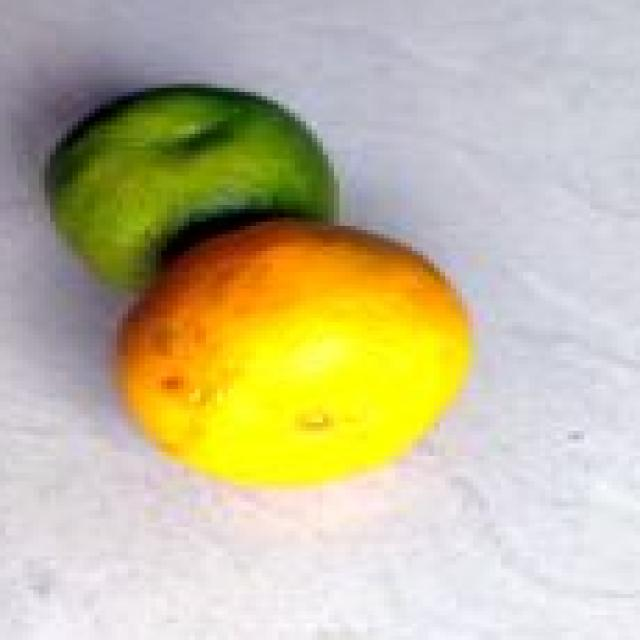Good_Orange-15-21 days: (39, 84, 479, 494)
